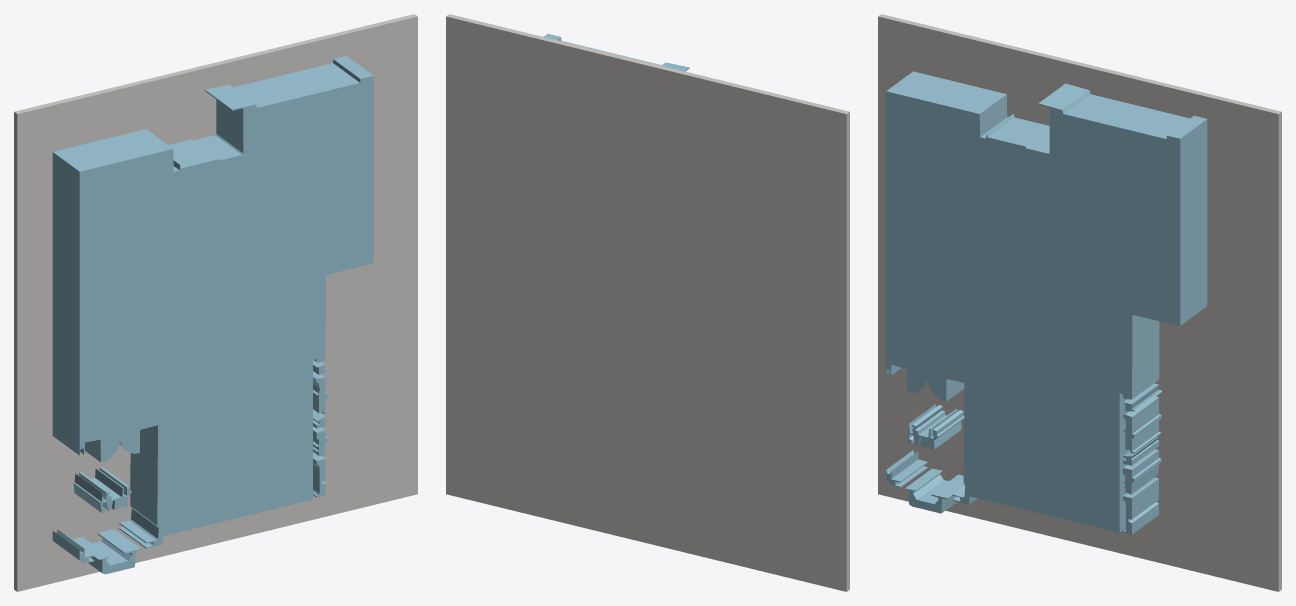
3 views of the same model, side by side, from view 1: azimuth 30°, elevation 25°; view 2: azimuth 150°, elevation 25°; view 3: azimuth 330°, elevation 25° (orthographic).
Parts seen in each view (by area): view 1: world; view 2: world; view 3: world.
Part boxes in pixels (x1=…): world: x1=14, y1=14, x2=417, y2=591; world: x1=446, y1=14, x2=849, y2=591; world: x1=878, y1=14, x2=1281, y2=591.
Size of the model in its own units: 10.23 by 11.66 by 1.35.
